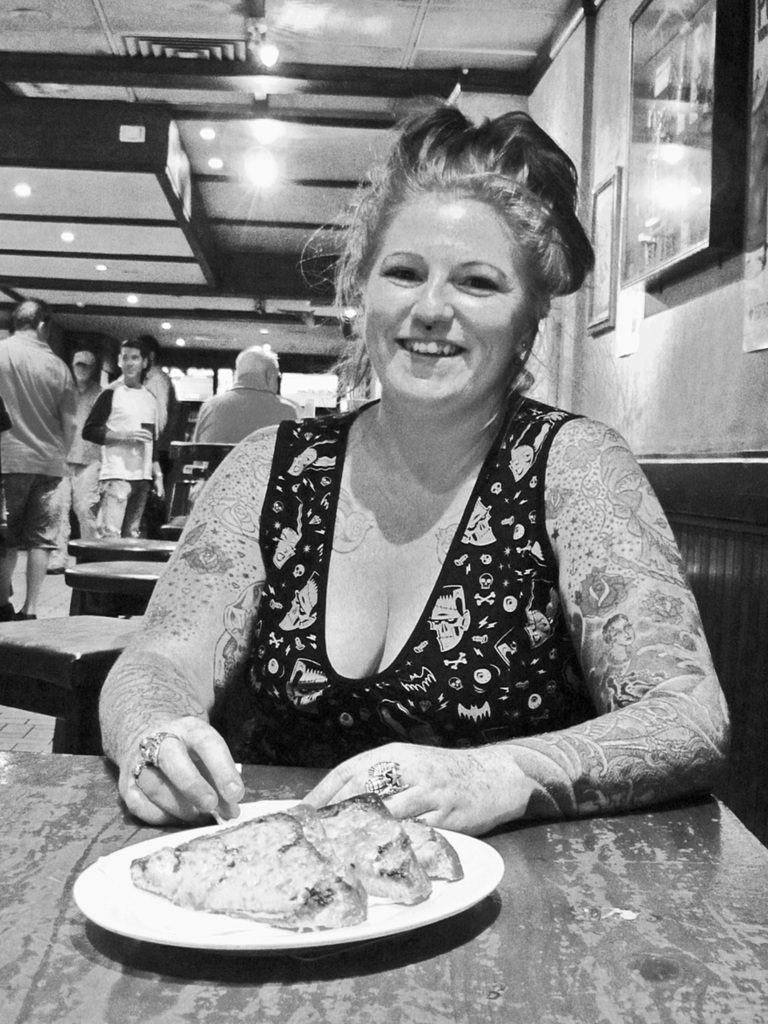Pizza: (128, 805, 359, 931), (286, 783, 433, 915), (407, 817, 461, 889)
